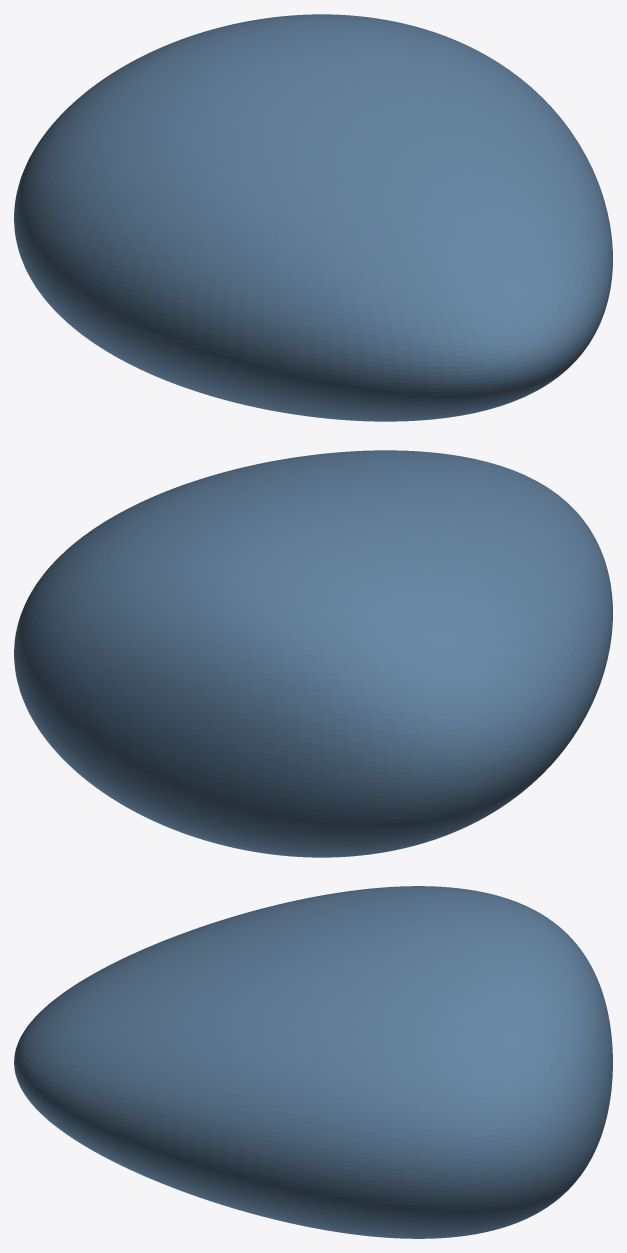
File: assembly_05_Canopy.glb
3 renders of one model, top to bottom at view 1: azimuth 30°, elevation 25°; view 2: azimuth 150°, elevation 25°; view 3: azimuth 270°, elevation 25°, orthographic. The views are drawn at different scales.
Visible parts, largest first — view 1: assembly_05_Canopy_gltf_export_temp; view 2: assembly_05_Canopy_gltf_export_temp; view 3: assembly_05_Canopy_gltf_export_temp.
Part boxes in pixels (left/top/right/bottom): assembly_05_Canopy_gltf_export_temp: left=14, top=14, right=612, bottom=421; assembly_05_Canopy_gltf_export_temp: left=14, top=450, right=612, bottom=857; assembly_05_Canopy_gltf_export_temp: left=14, top=886, right=612, bottom=1238.
Size of the model in its own units: 0.6159 by 0.3569 by 0.7046.
